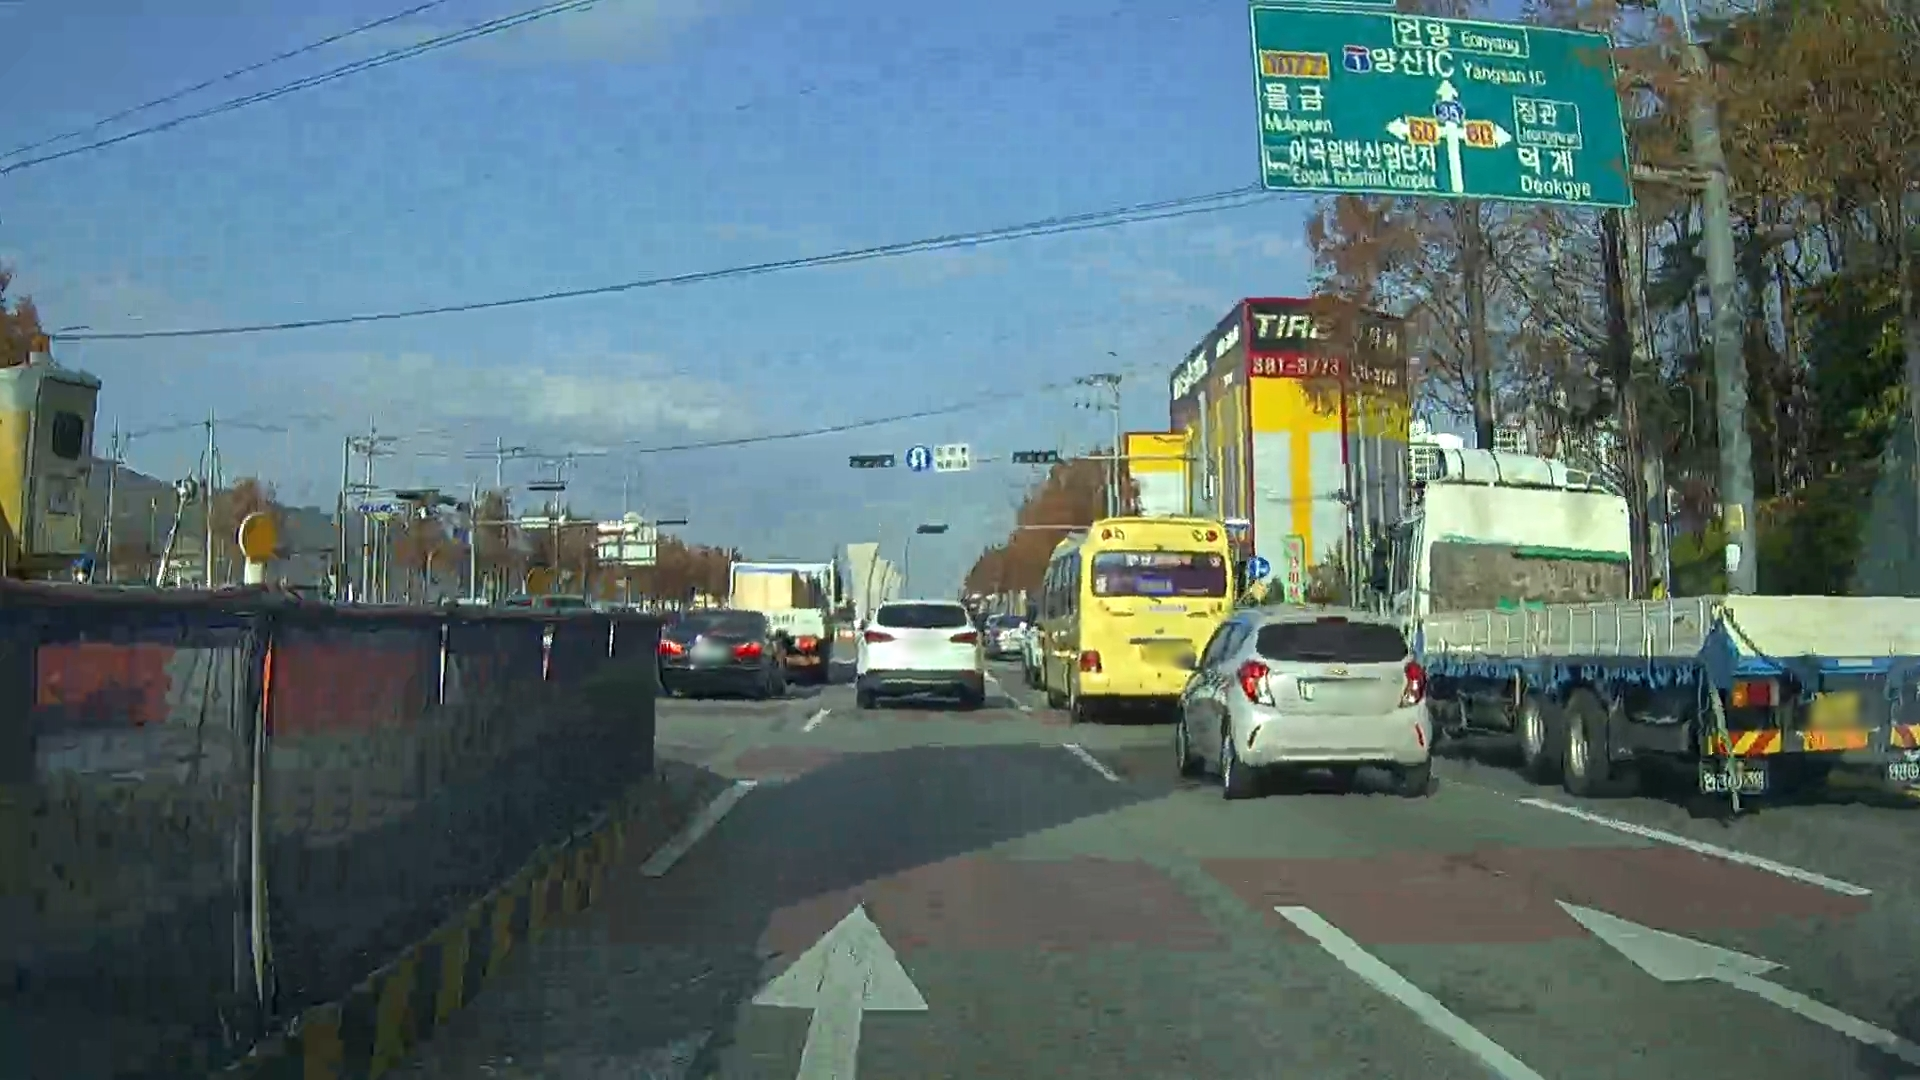trafficLight: (1009, 448, 1062, 468), (847, 451, 899, 469)
trafficSignCircle: (909, 444, 927, 472)
